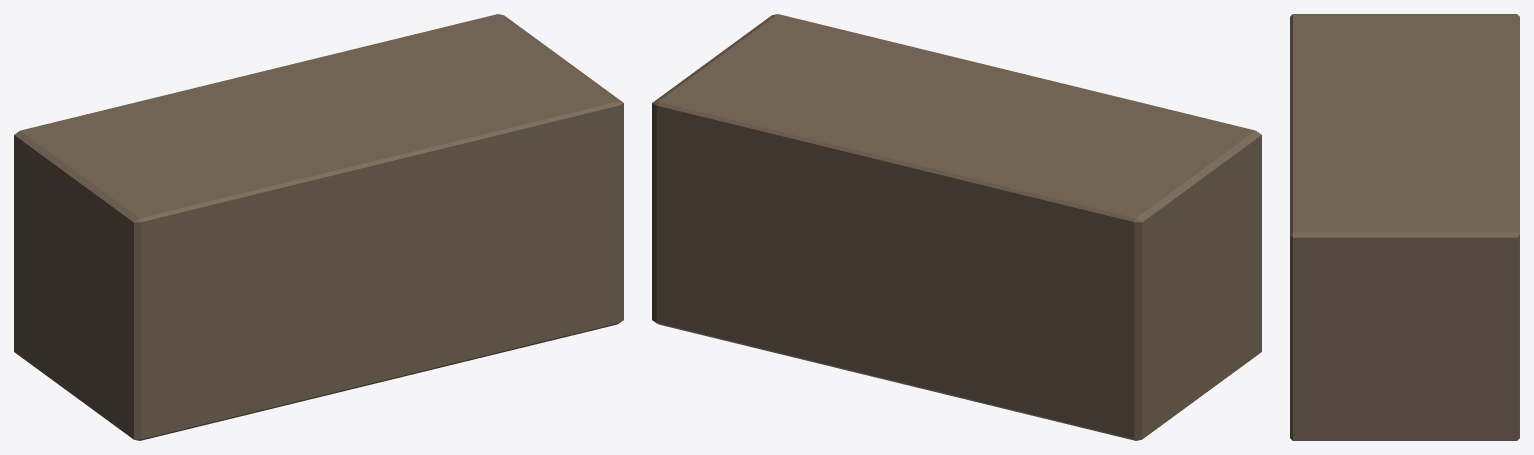
File: LongCardboardBoxGeo.fbx
3 renders of one model, left to right at view 1: azimuth 30°, elevation 25°; view 2: azimuth 150°, elevation 25°; view 3: azimuth 270°, elevation 25°, orthographic. The views are drawn at different scales.
Visible parts, largest first — view 1: LongCardboardBoxGeo; view 2: LongCardboardBoxGeo; view 3: LongCardboardBoxGeo.
Boxes of the visible parts, <box> form: LongCardboardBoxGeo: <box>14,14,623,440</box>; LongCardboardBoxGeo: <box>652,14,1261,440</box>; LongCardboardBoxGeo: <box>1290,14,1519,440</box>.
Bounding box in the file's own units: 173 × 75.29 × 75.29.
